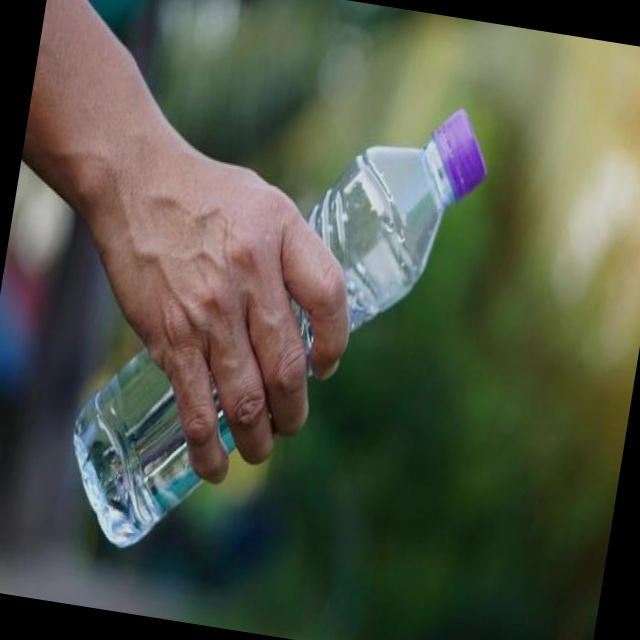Plastic-bottle: (83, 75, 473, 590)
